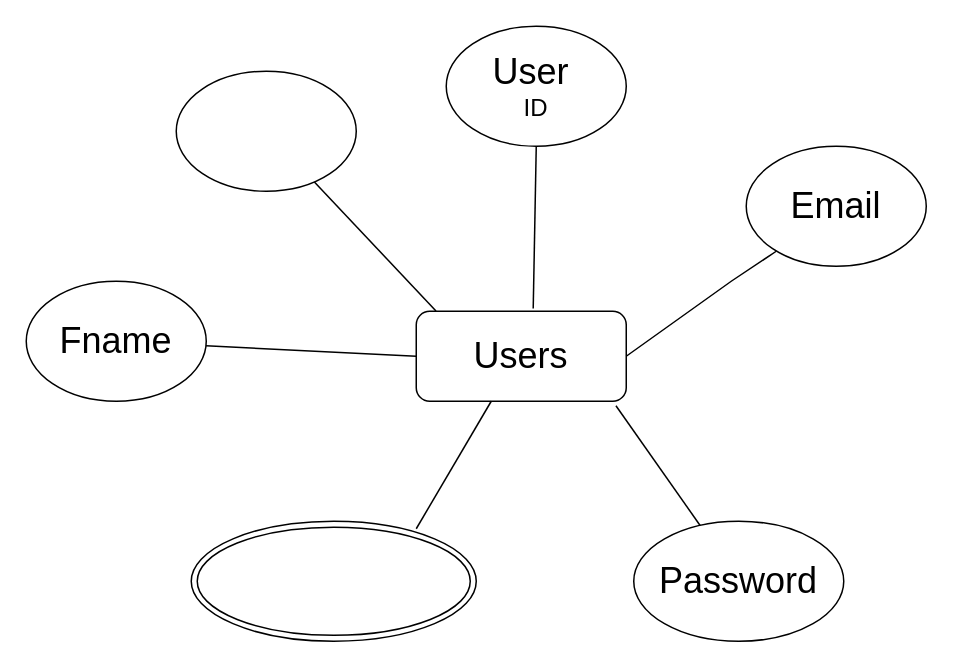
Some shapes in this 953 by 668 pixel diagram are drawn without their labels. Each missing label, with the centre of its shape:
"Lname" belongs at [265,130].
"Phone_Number" belongs at [333,580].
